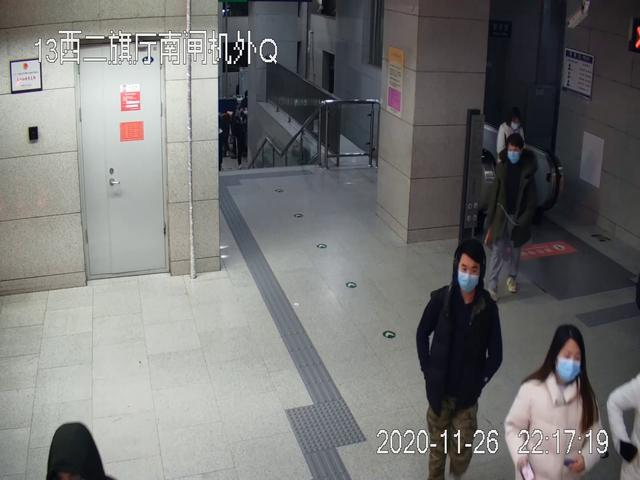person: (415, 240, 504, 480), (505, 323, 607, 480), (483, 134, 534, 300)
